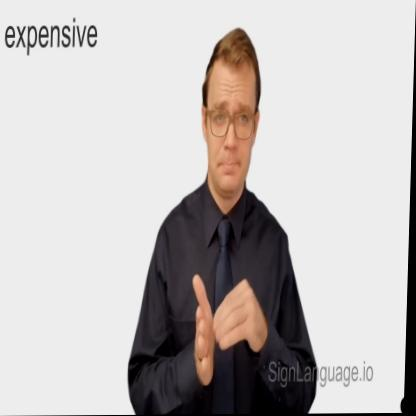Expensive: (187, 267, 268, 380)
